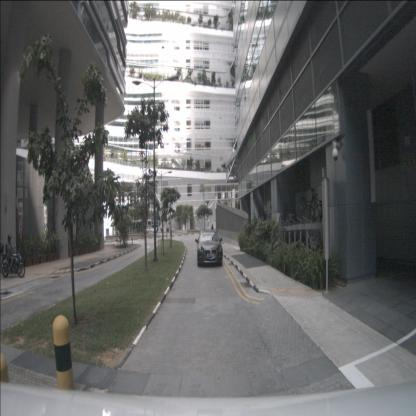vehicle-bicycle: (256, 208, 271, 229)
vehicle-car: (197, 229, 223, 267)
vehicle-motorcycle: (0, 234, 25, 278)
